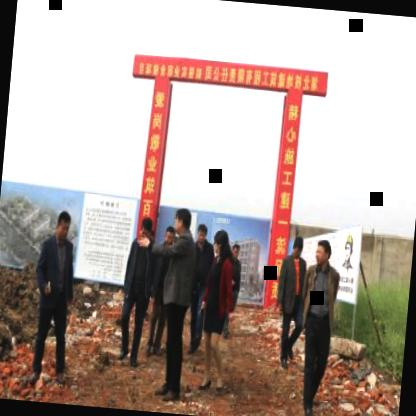head: (311, 236, 333, 270), (210, 224, 232, 257), (172, 204, 195, 235), (53, 208, 72, 243), (196, 218, 212, 248), (292, 233, 309, 260), (139, 216, 156, 242), (162, 223, 178, 247), (230, 240, 244, 262)
